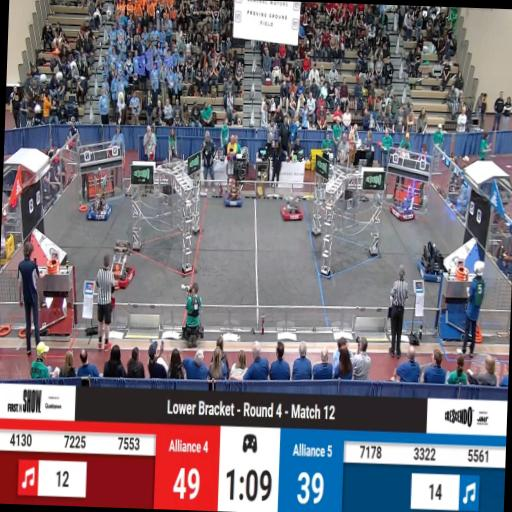robot: (78, 172, 112, 220), (104, 242, 136, 292), (417, 243, 447, 281), (390, 196, 415, 220), (280, 195, 302, 220), (224, 184, 242, 206)
